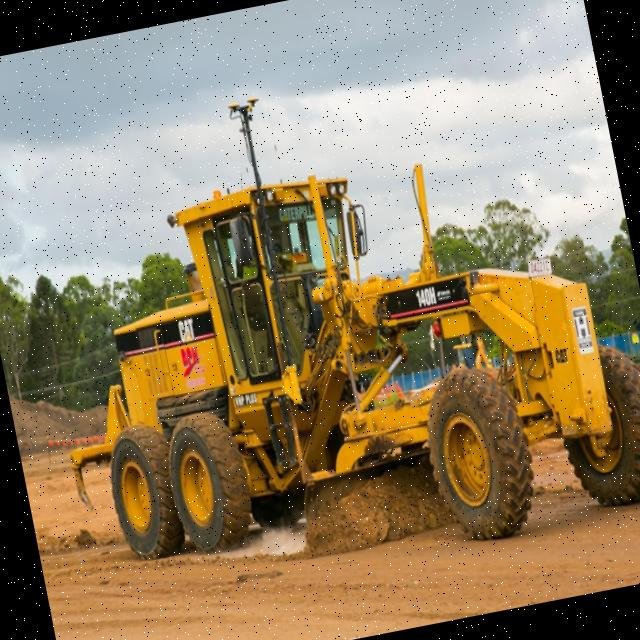Grader: (27, 111, 640, 626)
